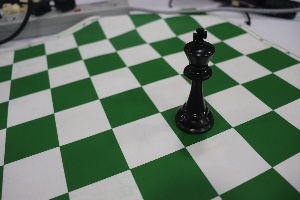black_king: (171, 17, 221, 141)
